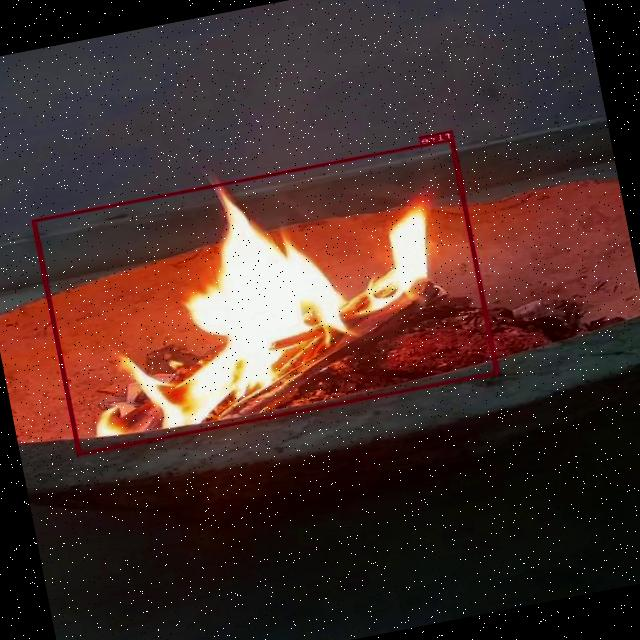fire: (32, 137, 500, 456)
